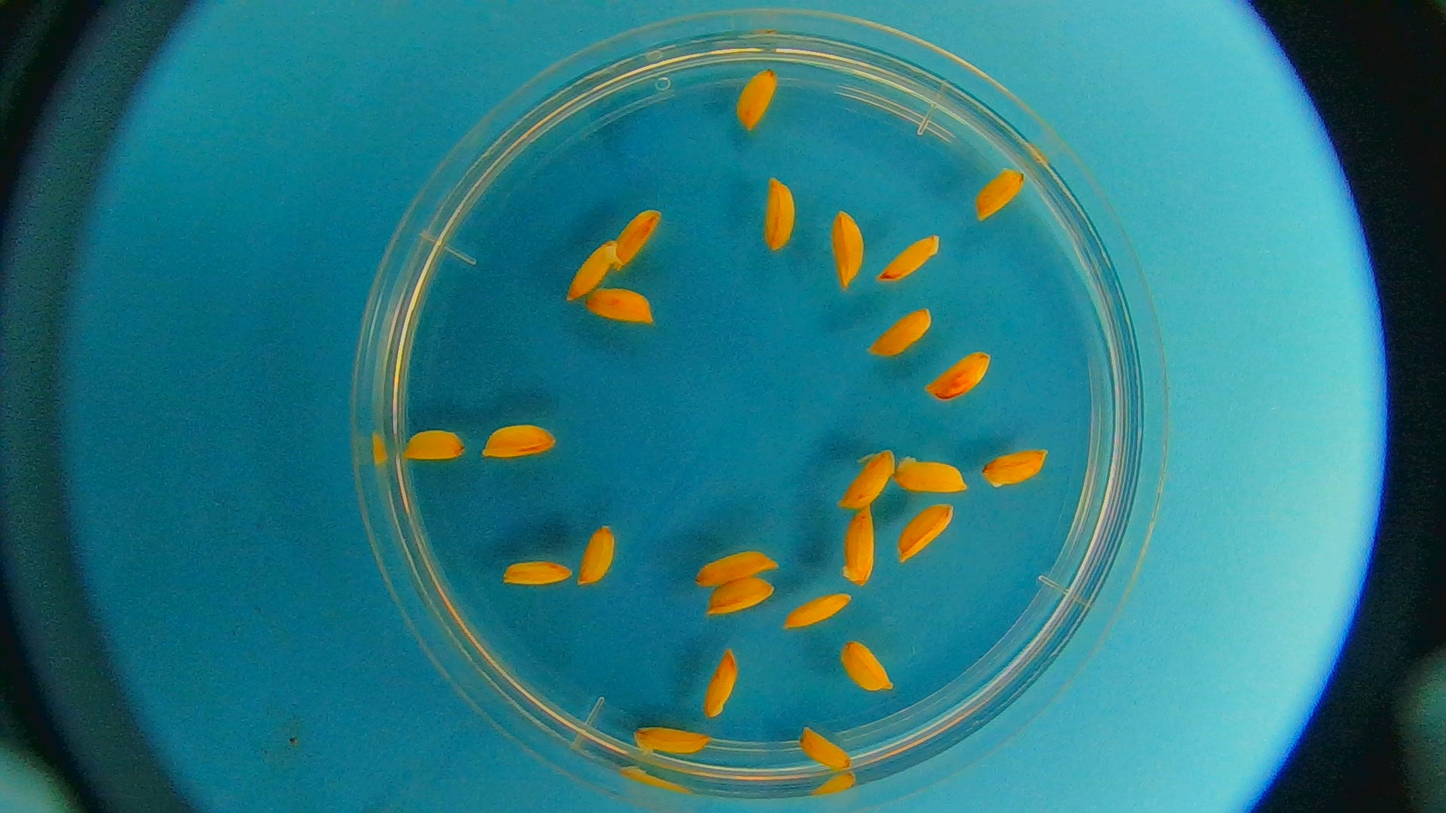no: (609, 203, 666, 274), (834, 446, 893, 509), (563, 232, 616, 300), (869, 306, 931, 360), (897, 504, 956, 560), (631, 723, 713, 763), (482, 417, 558, 460), (735, 62, 779, 134), (834, 510, 877, 583), (929, 348, 989, 400), (877, 236, 940, 285), (705, 578, 778, 620), (587, 283, 654, 327), (974, 168, 1025, 225), (827, 212, 865, 288), (578, 521, 620, 587), (694, 548, 773, 583), (784, 592, 853, 632), (840, 642, 892, 693), (984, 446, 1045, 489), (761, 178, 796, 252), (799, 727, 854, 773), (898, 461, 964, 497), (706, 645, 738, 717), (404, 426, 465, 461), (504, 558, 569, 590)
